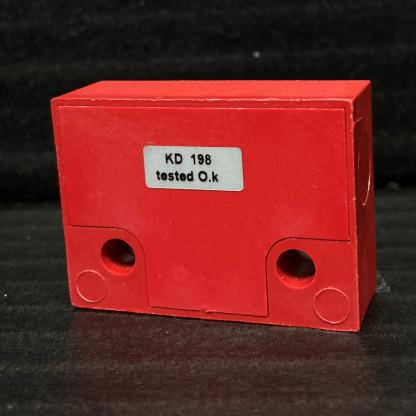SP0000001: (20, 38, 413, 381)
